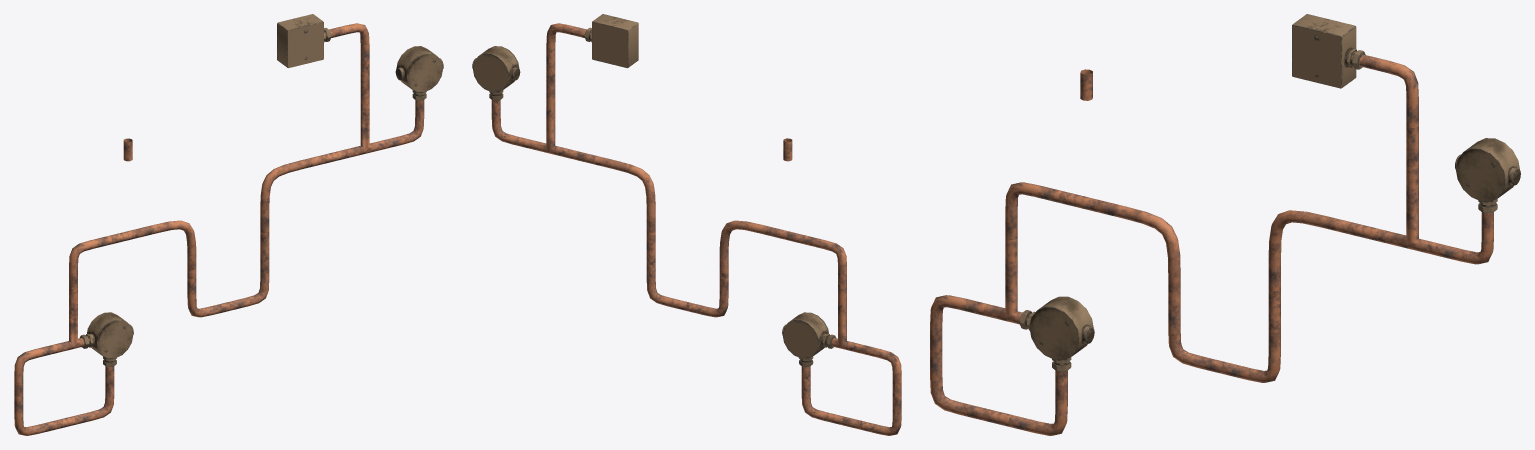
File: decorative-pipes.glb
3 views of the same model, side by side, from view 1: azimuth 30°, elevation 25°; view 2: azimuth 150°, elevation 25°; view 3: azimuth 330°, elevation 25° (orthographic). The views are drawn at different scales.
Visible parts, largest first — view 1: ExamplePipe, ExamplePipe.011, ExamplePipe.005, ExamplePipe.015, ExamplePipe.014, ExamplePipe.040, ExamplePipe.001, ExamplePipe.020, ExamplePipe.039, ExamplePipe.016, ExamplePipe.022, ExamplePipe.017 (+6 smaller); view 2: ExamplePipe.001, ExamplePipe.010, ExamplePipe.004, ExamplePipe.015, ExamplePipe.014, ExamplePipe.040, ExamplePipe.020, ExamplePipe.039, ExamplePipe.016, ExamplePipe.022, ExamplePipe.017, ExamplePipe.018 (+3 smaller); view 3: ExamplePipe, ExamplePipe.011, ExamplePipe.005, ExamplePipe.014, ExamplePipe.015, ExamplePipe.040, ExamplePipe.039, ExamplePipe.019, ExamplePipe.001, ExamplePipe.022, ExamplePipe.021, ExamplePipe.017 (+6 smaller).
Boxes of the visible parts, x1=… form: ExamplePipe: x1=287, y1=21, x2=323, y2=67; ExamplePipe.011: x1=406, y1=53, x2=442, y2=92; ExamplePipe.005: x1=96, y1=320, x2=133, y2=358; ExamplePipe.015: x1=260, y1=156, x2=321, y2=232; ExamplePipe.014: x1=136, y1=220, x2=196, y2=279; ExamplePipe.040: x1=345, y1=93, x2=385, y2=157; ExamplePipe.001: x1=277, y1=14, x2=322, y2=67; ExamplePipe.020: x1=14, y1=344, x2=57, y2=397; ExamplePipe.039: x1=54, y1=287, x2=84, y2=352; ExamplePipe.016: x1=69, y1=236, x2=111, y2=288; ExamplePipe.022: x1=14, y1=396, x2=57, y2=435; ExamplePipe.017: x1=187, y1=277, x2=230, y2=317; ExamplePipe.001: x1=592, y1=14, x2=638, y2=68; ExamplePipe.010: x1=472, y1=46, x2=518, y2=92; ExamplePipe.004: x1=782, y1=312, x2=828, y2=358; ExamplePipe.015: x1=594, y1=156, x2=655, y2=232; ExamplePipe.014: x1=719, y1=220, x2=779, y2=279; ExamplePipe.040: x1=530, y1=92, x2=570, y2=157; ExamplePipe.020: x1=858, y1=344, x2=901, y2=397; ExamplePipe.039: x1=831, y1=287, x2=861, y2=352; ExamplePipe.016: x1=804, y1=236, x2=846, y2=288; ExamplePipe.022: x1=858, y1=396, x2=901, y2=435; ExamplePipe.017: x1=685, y1=277, x2=728, y2=317; ExamplePipe.018: x1=646, y1=260, x2=687, y2=310; ExamplePipe: x1=1292, y1=24, x2=1342, y2=88; ExamplePipe.011: x1=1455, y1=148, x2=1505, y2=201; ExamplePipe.005: x1=1029, y1=307, x2=1079, y2=359; ExamplePipe.014: x1=1096, y1=200, x2=1180, y2=305; ExamplePipe.015: x1=1268, y1=210, x2=1350, y2=290; ExamplePipe.040: x1=1384, y1=164, x2=1438, y2=254; ExamplePipe.039: x1=983, y1=237, x2=1022, y2=324; ExamplePipe.019: x1=1359, y1=55, x2=1418, y2=127; ExamplePipe.001: x1=1293, y1=14, x2=1356, y2=87; ExamplePipe.022: x1=930, y1=350, x2=987, y2=420; ExamplePipe.021: x1=1008, y1=380, x2=1067, y2=435; ExamplePipe.017: x1=1168, y1=303, x2=1225, y2=373.
Bounding box in the file's own units: 2.3 × 1.79 × 0.0996.
2 materials, 2 textured.
